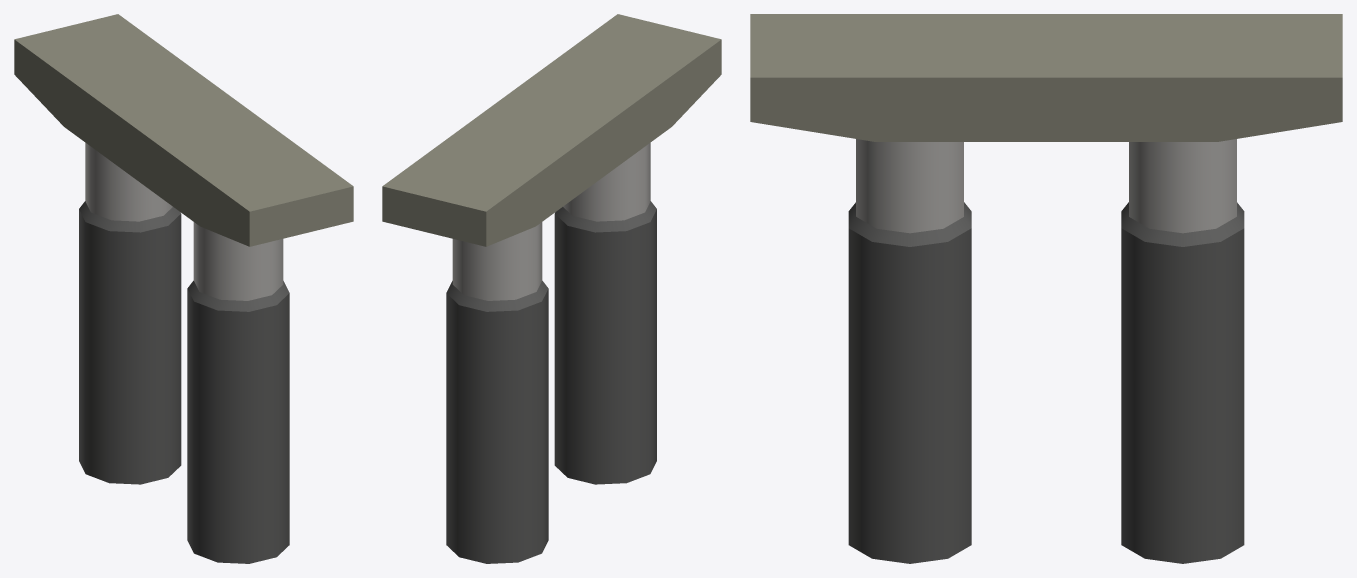
File: bridge2_pillars.fbx
The picture shows the model from 3 angles, left to right: view 1: azimuth 30°, elevation 25°; view 2: azimuth 150°, elevation 25°; view 3: azimuth 270°, elevation 25°; orthographic projection. The views are drawn at different scales.
Parts seen in each view (by area): view 1: bridge2_pillars; view 2: bridge2_pillars; view 3: bridge2_pillars.
Boxes of the visible parts, x1,y1,x2,y2 form: bridge2_pillars: (14,14,353,563); bridge2_pillars: (382,14,721,563); bridge2_pillars: (750,14,1342,563).
Bounding box in the file's own units: 299 × 1073 × 1174.
